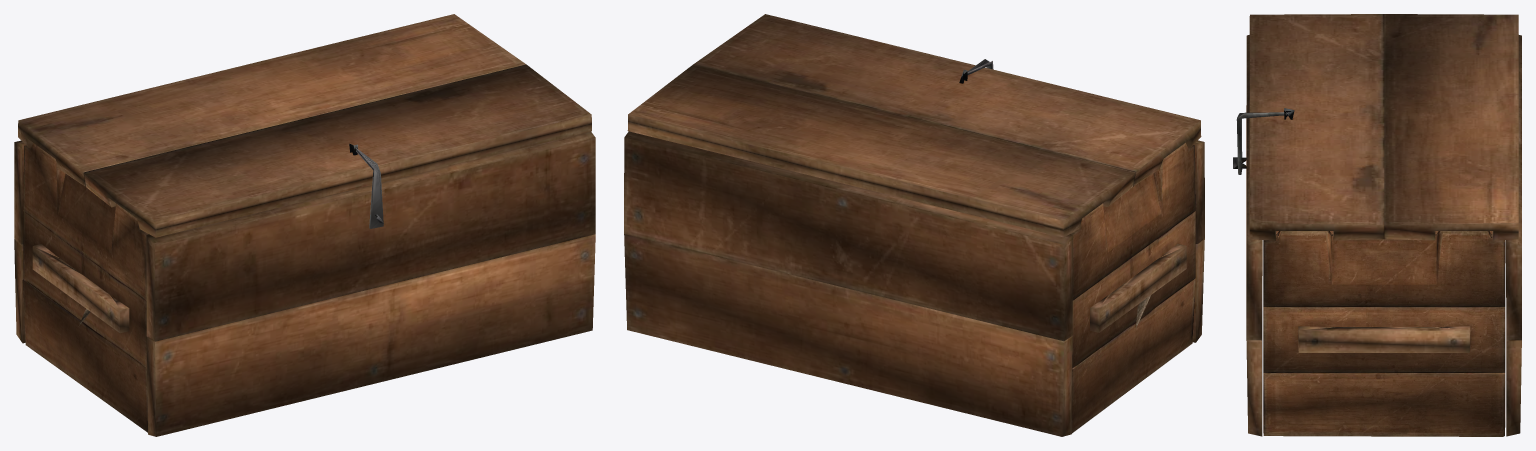
File: glb_crate.92605f2a.glb
3 views of the same model, side by side, from view 1: azimuth 30°, elevation 25°; view 2: azimuth 150°, elevation 25°; view 3: azimuth 270°, elevation 25° (orthographic). The views are drawn at different scales.
Parts seen in each view (by area): view 1: wooden_crate_01_lid; view 2: wooden_crate_01_lid; view 3: wooden_crate_01_lid.
Part boxes in pixels (<box>): wooden_crate_01_lid: <box>14,14,595,436</box>; wooden_crate_01_lid: <box>624,14,1204,436</box>; wooden_crate_01_lid: <box>1233,14,1521,436</box>.
Size of the model in its own units: 0.7229 by 0.3469 by 0.4043.
1 material, 1 textured.
